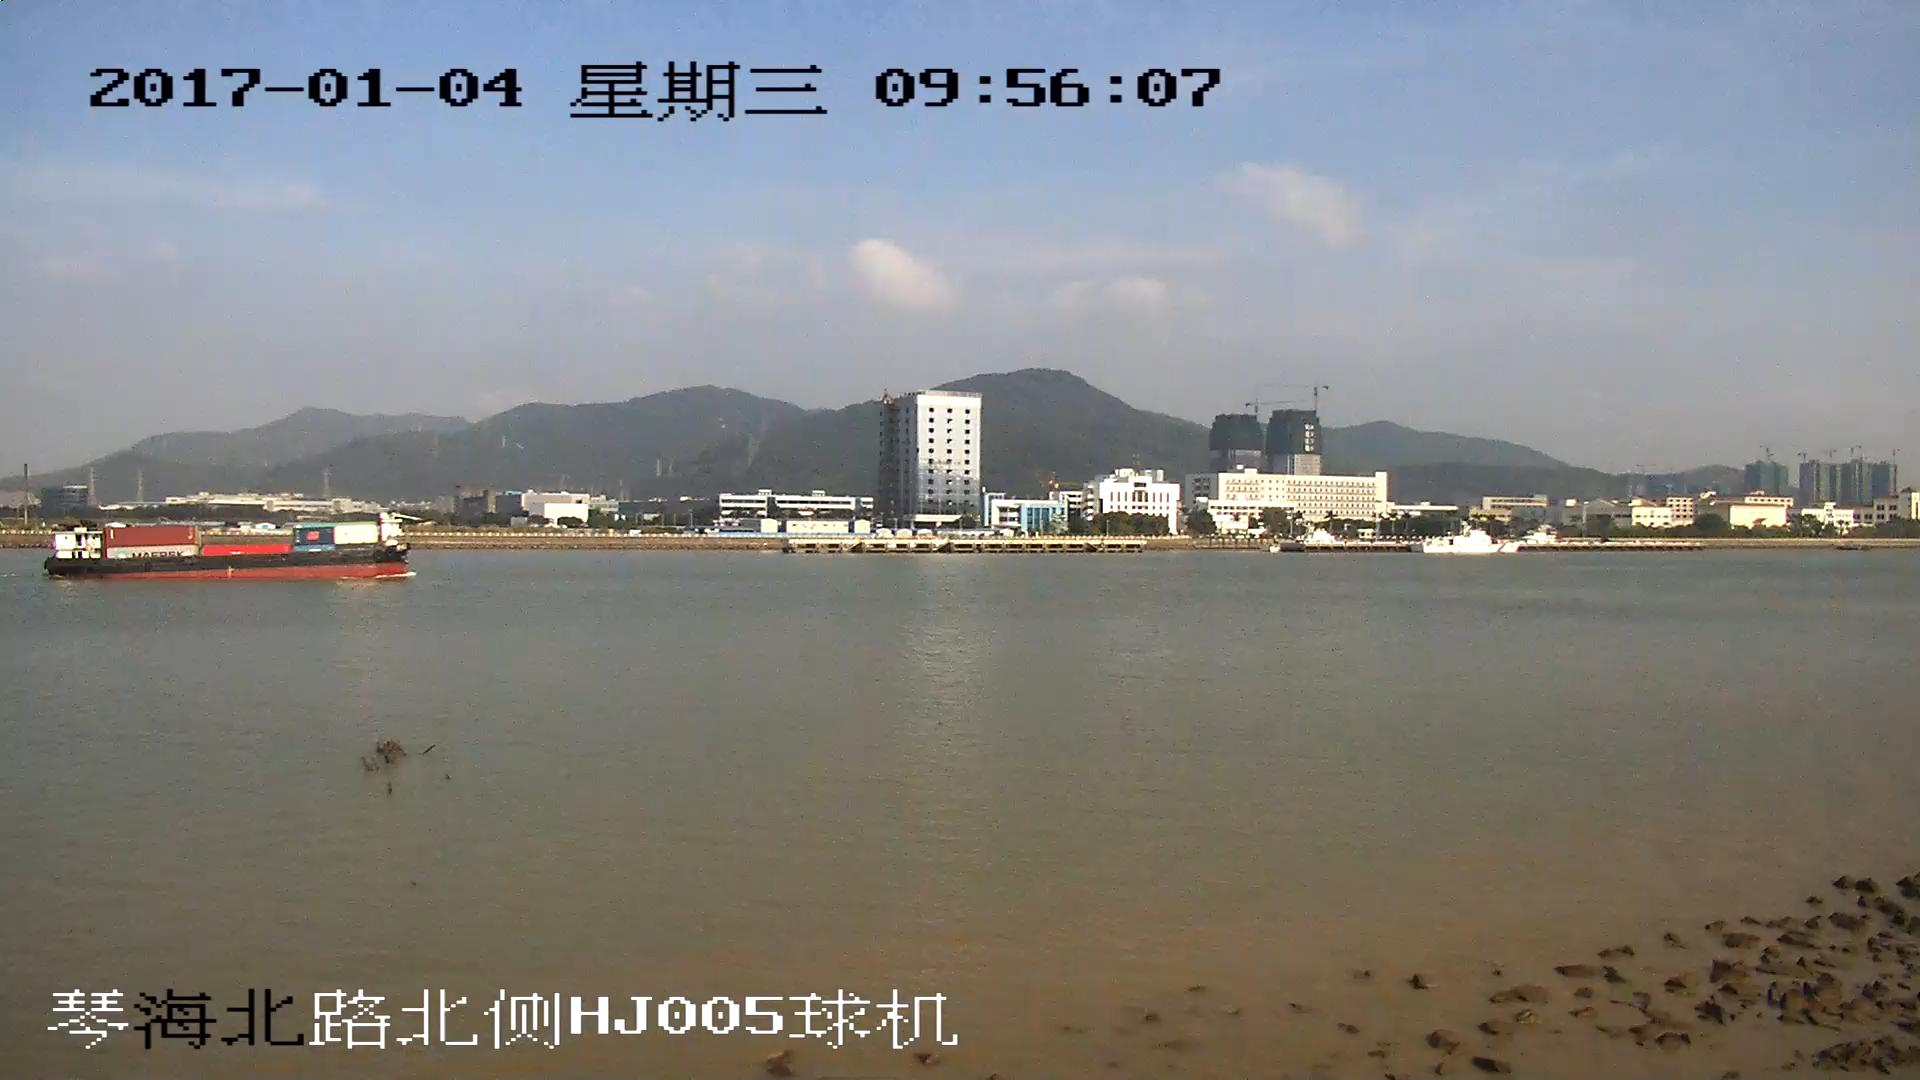container ship: (42, 519, 412, 579)
